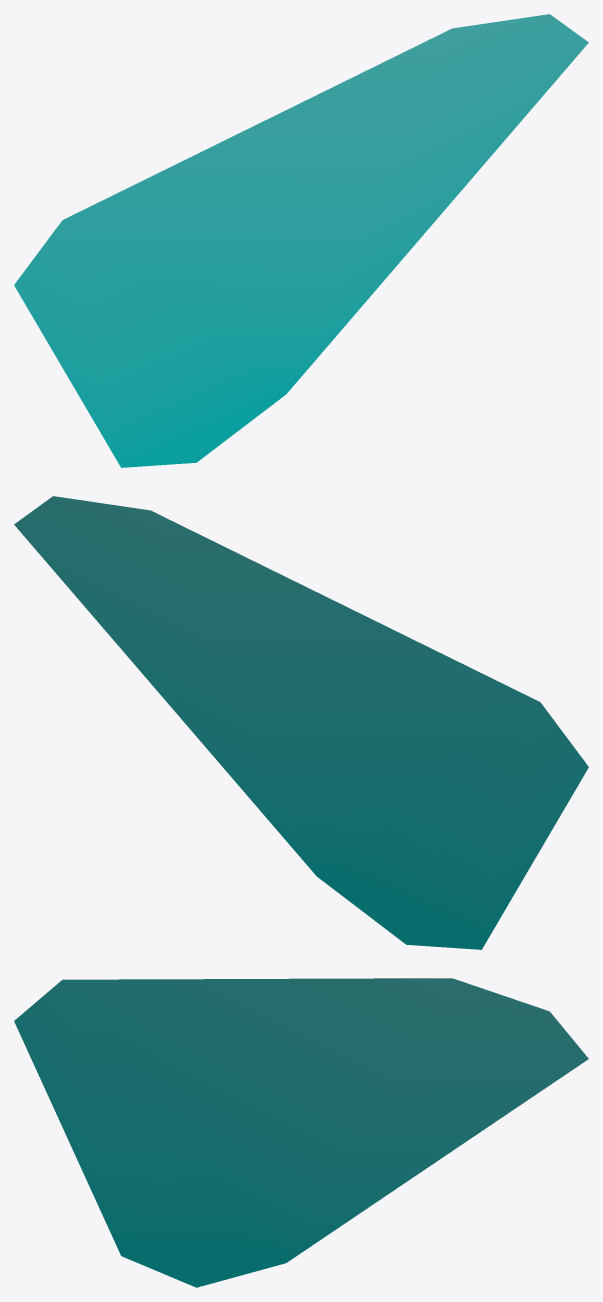
Rendered from Fern_sbslY_High_sbslY_VarB_LOD2.fbx.
3 renders of one model, top to bottom at view 1: azimuth 30°, elevation 25°; view 2: azimuth 150°, elevation 25°; view 3: azimuth 330°, elevation 25°, orthographic.
Parts seen in each view (by area): view 1: _014a_VarB_LOD3; view 2: _014a_VarB_LOD3; view 3: _014a_VarB_LOD3.
Boxes of the visible parts, x1=… form: _014a_VarB_LOD3: x1=14, y1=14, x2=588, y2=467; _014a_VarB_LOD3: x1=14, y1=496, x2=588, y2=949; _014a_VarB_LOD3: x1=14, y1=978, x2=588, y2=1287.
Bounding box in the file's own units: 123 × 75.76 × 0.
